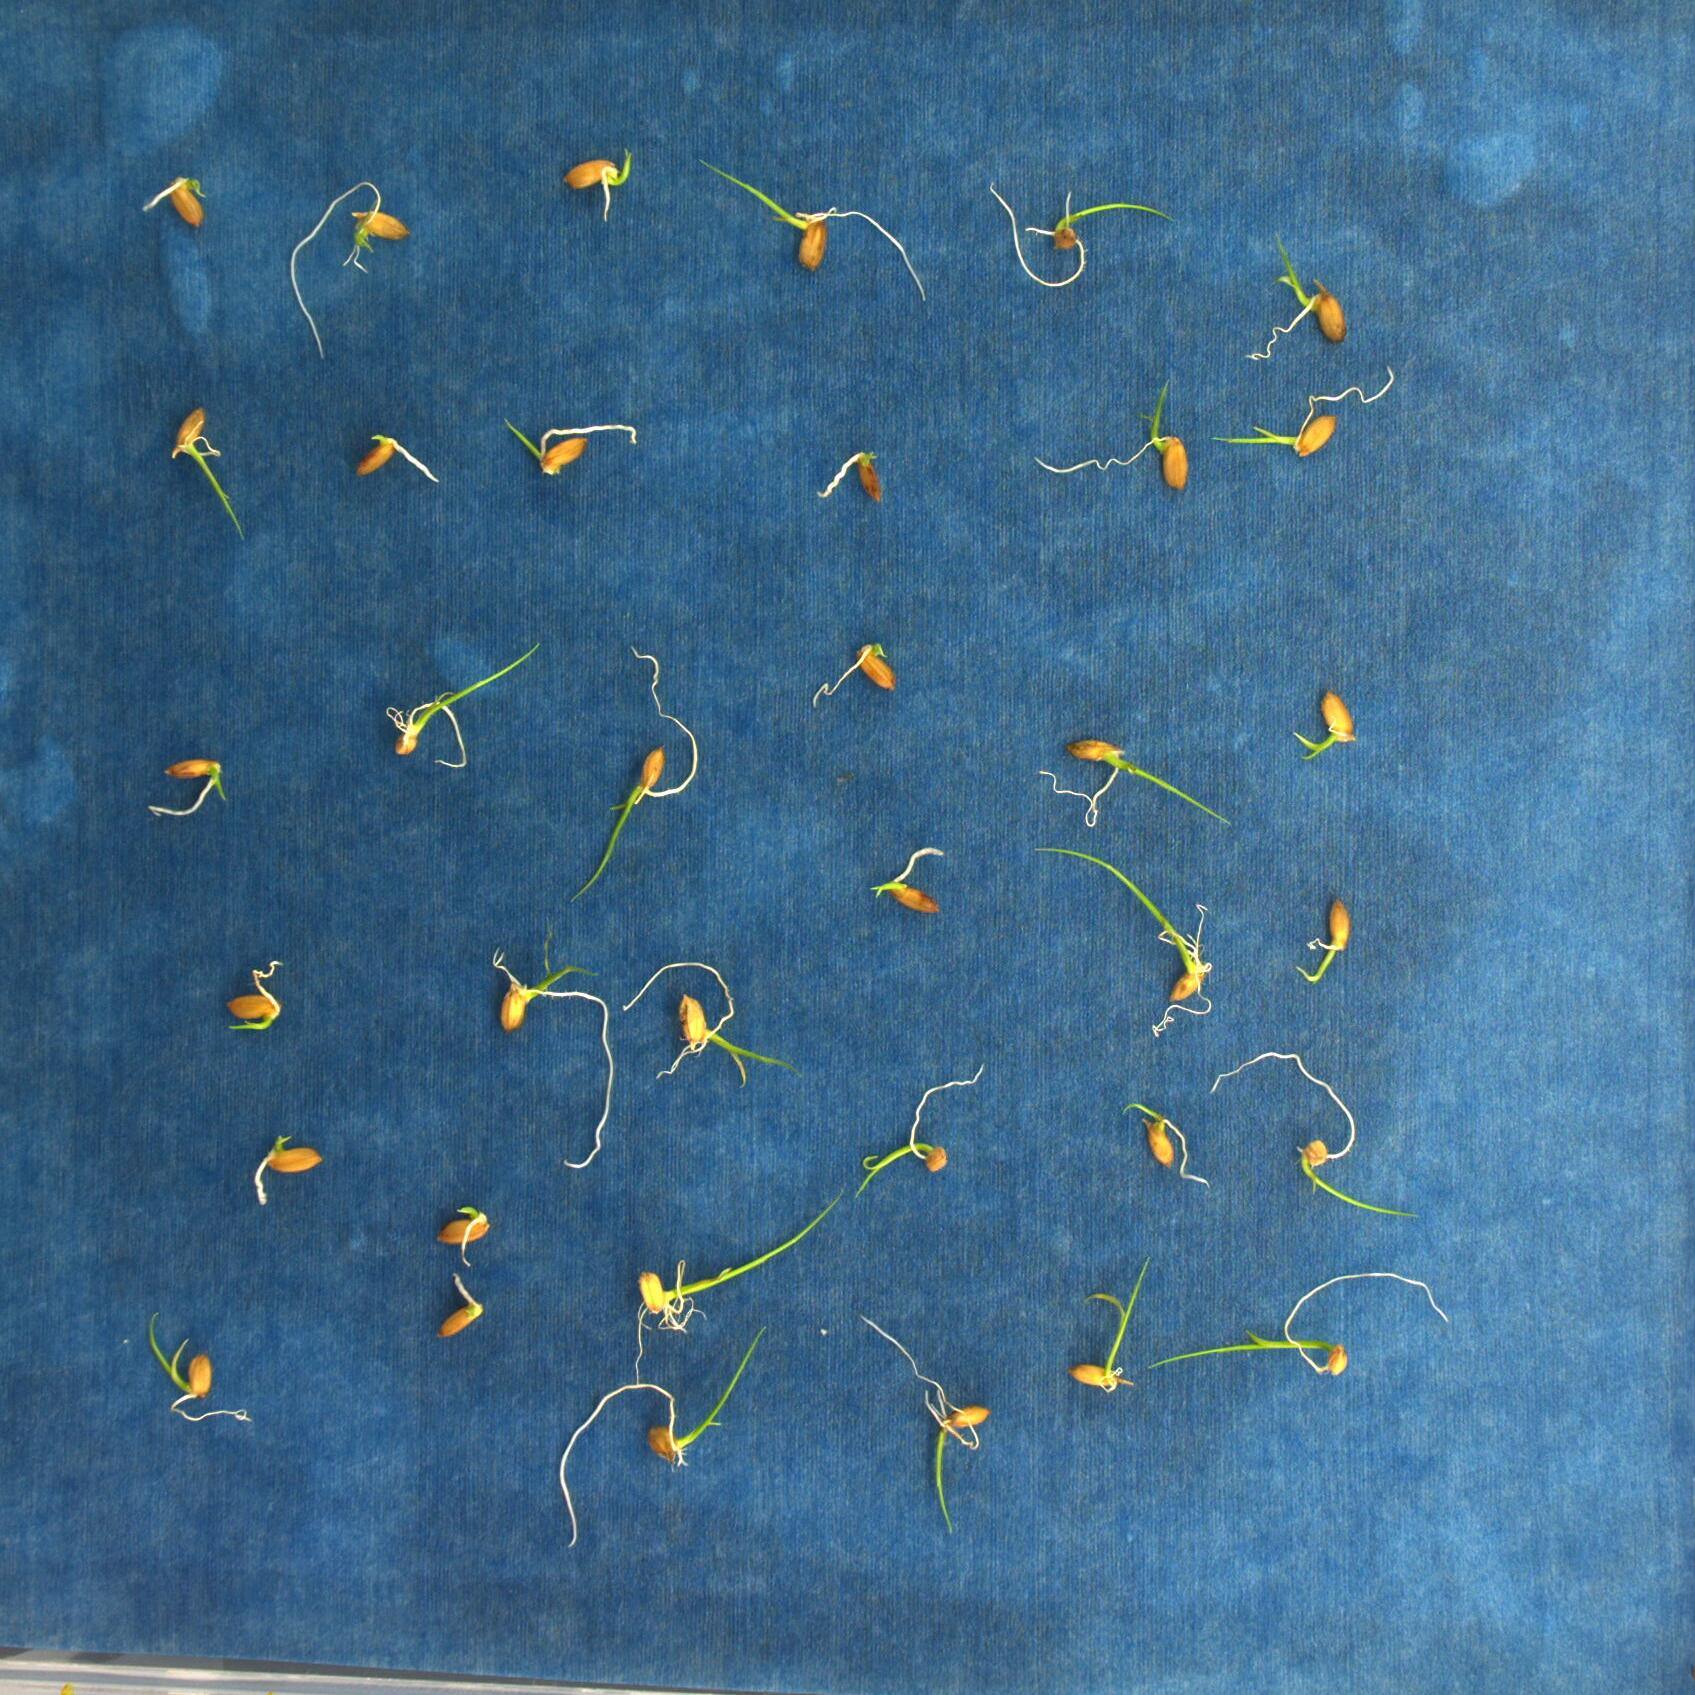not sprout: (812, 640, 899, 706), (248, 1132, 320, 1205), (354, 430, 439, 483), (815, 445, 885, 504), (432, 1209, 492, 1263), (438, 1277, 481, 1335)
sprout: (559, 1321, 768, 1544), (632, 1184, 849, 1388), (1208, 1052, 1425, 1225), (1032, 844, 1215, 1035), (698, 155, 927, 301), (1139, 1271, 1448, 1378), (571, 644, 698, 903), (860, 1313, 990, 1541), (486, 948, 608, 1167), (383, 633, 542, 775), (626, 958, 790, 1090), (289, 175, 408, 357), (989, 179, 1180, 287), (854, 1062, 989, 1201), (1038, 737, 1232, 830), (1205, 365, 1397, 458), (1040, 380, 1187, 494), (1243, 234, 1347, 362), (143, 1313, 255, 1430), (1068, 1253, 1155, 1395), (168, 407, 248, 543), (1119, 1107, 1220, 1194), (501, 418, 641, 477), (560, 144, 632, 224), (220, 955, 287, 1034), (872, 847, 945, 919), (1298, 893, 1352, 986), (147, 761, 227, 815), (1295, 692, 1358, 759), (140, 174, 210, 228)
